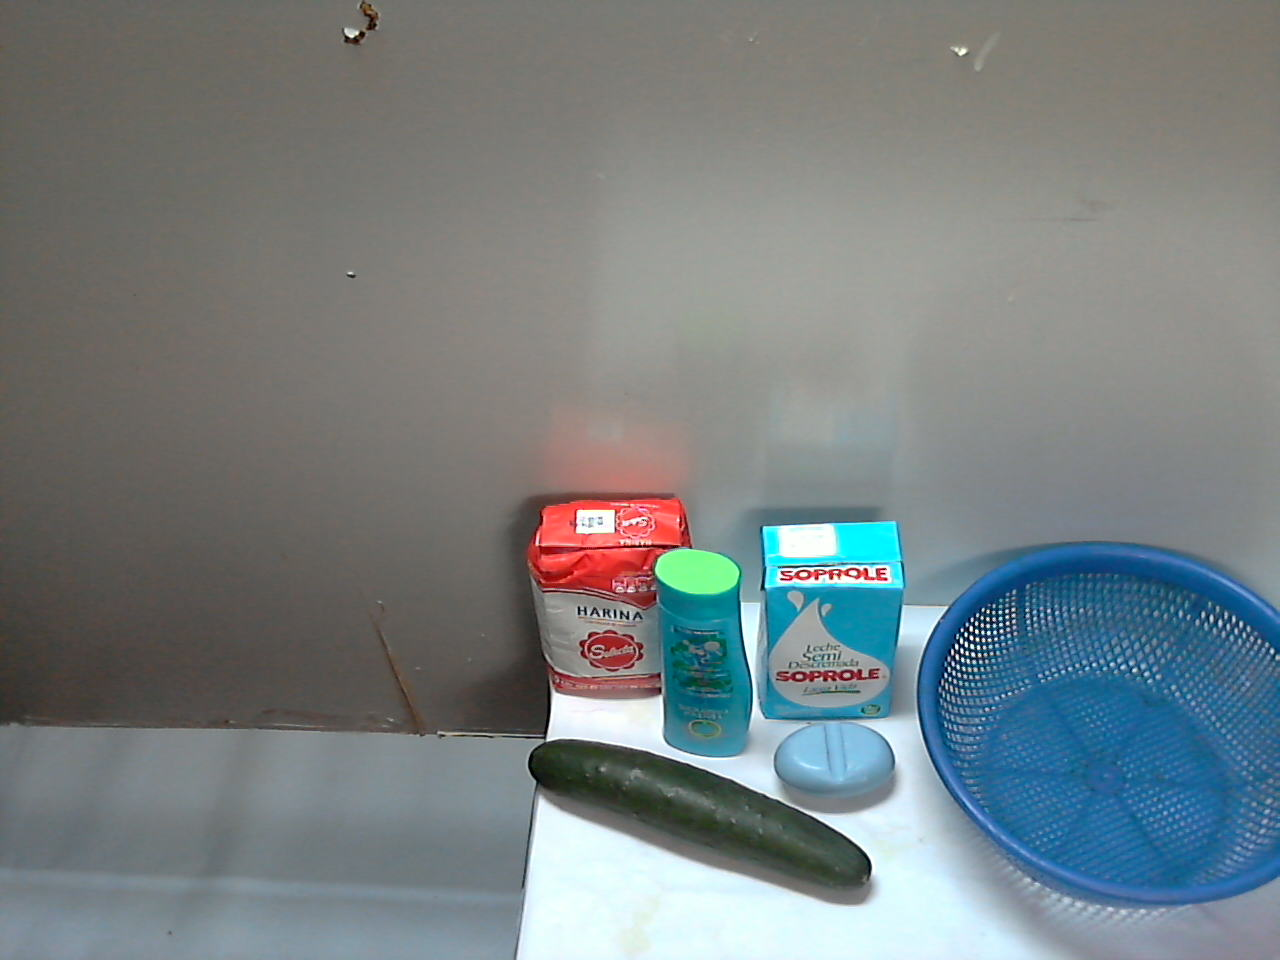cera: (795, 460, 955, 769)
desodorante: (577, 597, 663, 722)
estuche: (466, 698, 638, 920)
guante: (908, 628, 1177, 959)
jugoind: (685, 582, 777, 747)
platano: (644, 769, 921, 925)
